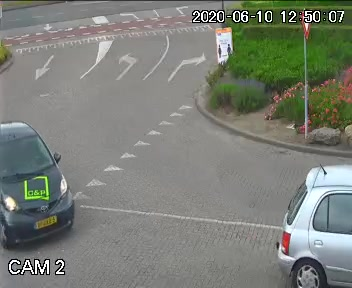car: (0, 117, 88, 239), (276, 160, 352, 284)
